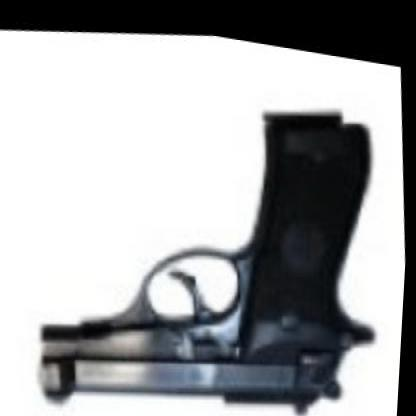pistol: (19, 46, 402, 414)
